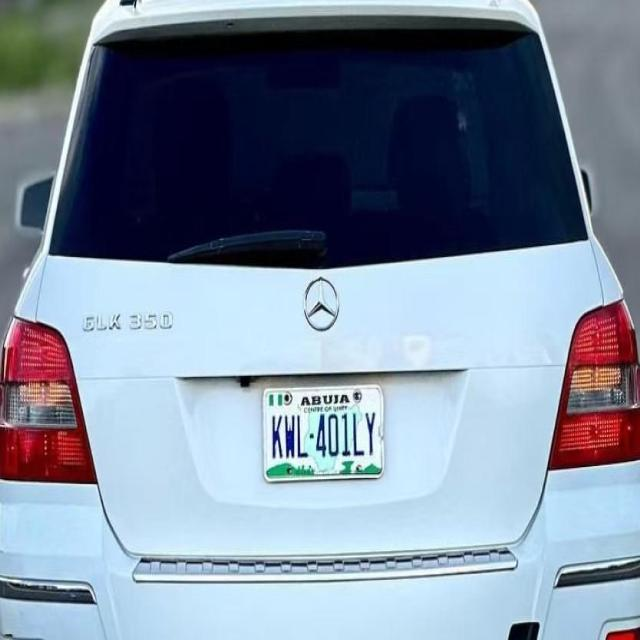Nigerian License Plate - vdataset benjamin-daria: (262, 377, 386, 483)
